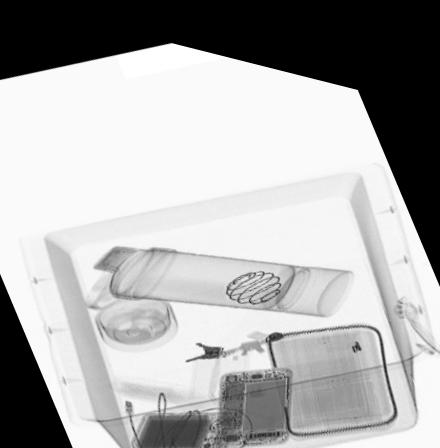Powerbank: (125, 400, 246, 445)
